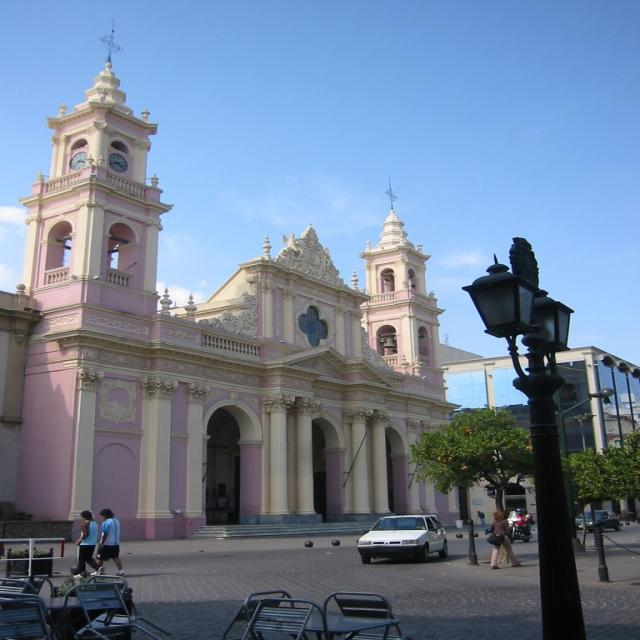Passenger Car: (355, 514, 452, 565)
Pedestrians: (98, 507, 130, 577), (74, 504, 99, 580)
